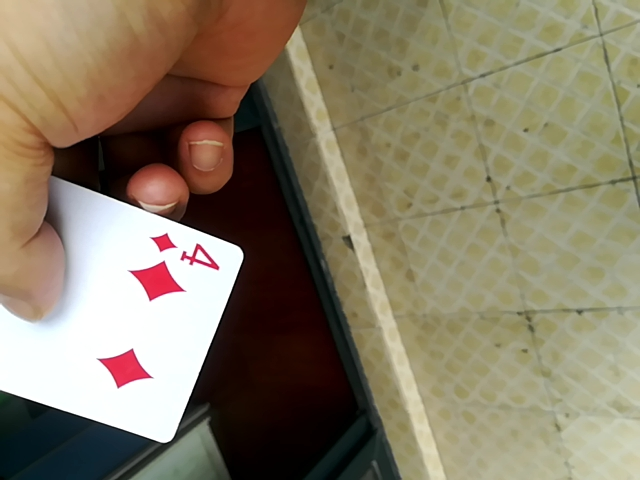fk 4: (0, 150, 250, 452)
